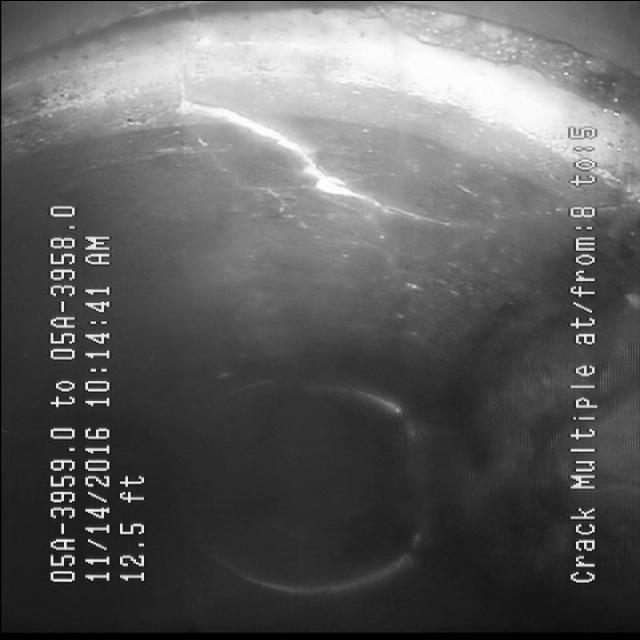Crack: (156, 83, 462, 240)
